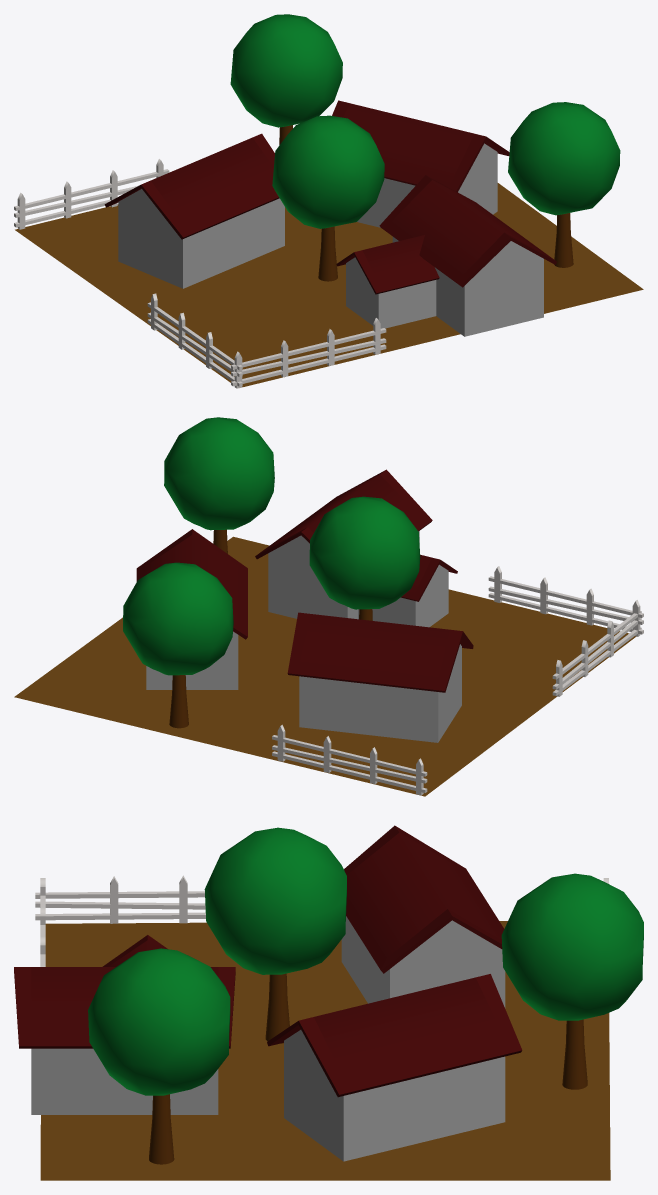
Rendered from Model_Casa.FBX.
The picture shows the model from 3 angles, top to bottom: view 1: azimuth 30°, elevation 25°; view 2: azimuth 150°, elevation 25°; view 3: azimuth 270°, elevation 25°; orthographic projection. The views are drawn at different scales.
Parts seen in each view (by area): view 1: Casa; view 2: Casa; view 3: Casa.
Part boxes in pixels (x1,y1,x2,y2): Casa: (14, 14, 643, 388); Casa: (14, 417, 643, 796); Casa: (14, 825, 643, 1180).
Bounding box in the file's own units: 587 × 205 × 579.
